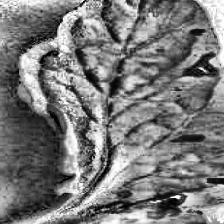disease: (17, 0, 224, 224)
